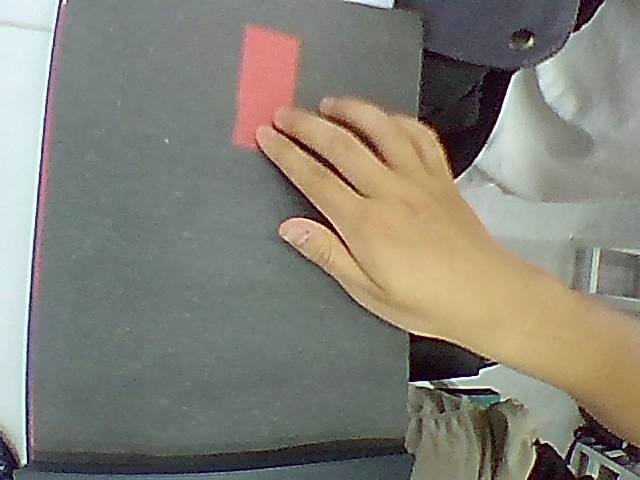card: (233, 25, 300, 148)
